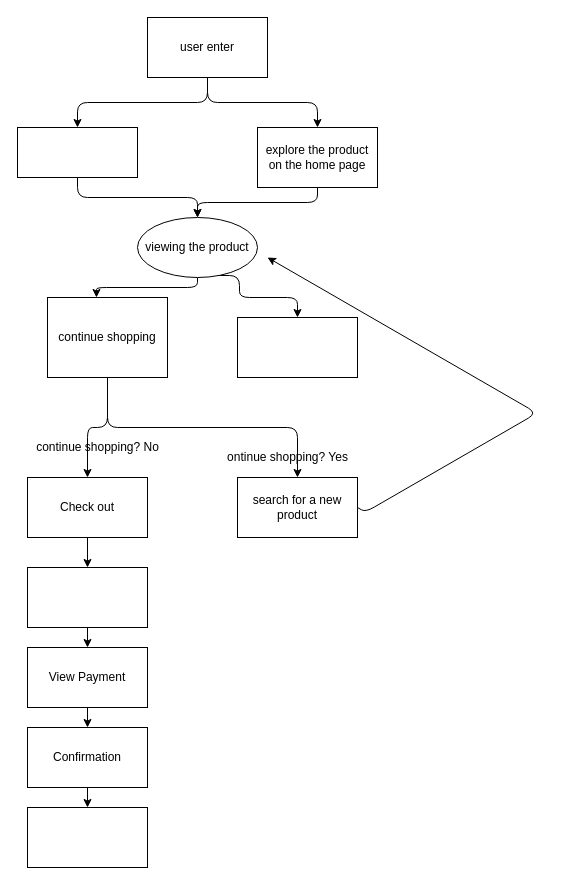
Image size: 563x885. Some labels were removed from this diagram. The shapes that lost their labels are listed below. From the top down, each one's centre as x and y in pixels, then its label:
At point (77, 152): "searching for a product --> input".
At point (297, 347): "add to the cart".
At point (87, 597): "View Cart".
At point (87, 837): "Exit the web".
